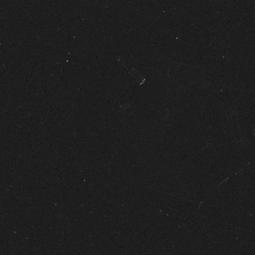proba_2: (61, 31, 245, 200)
